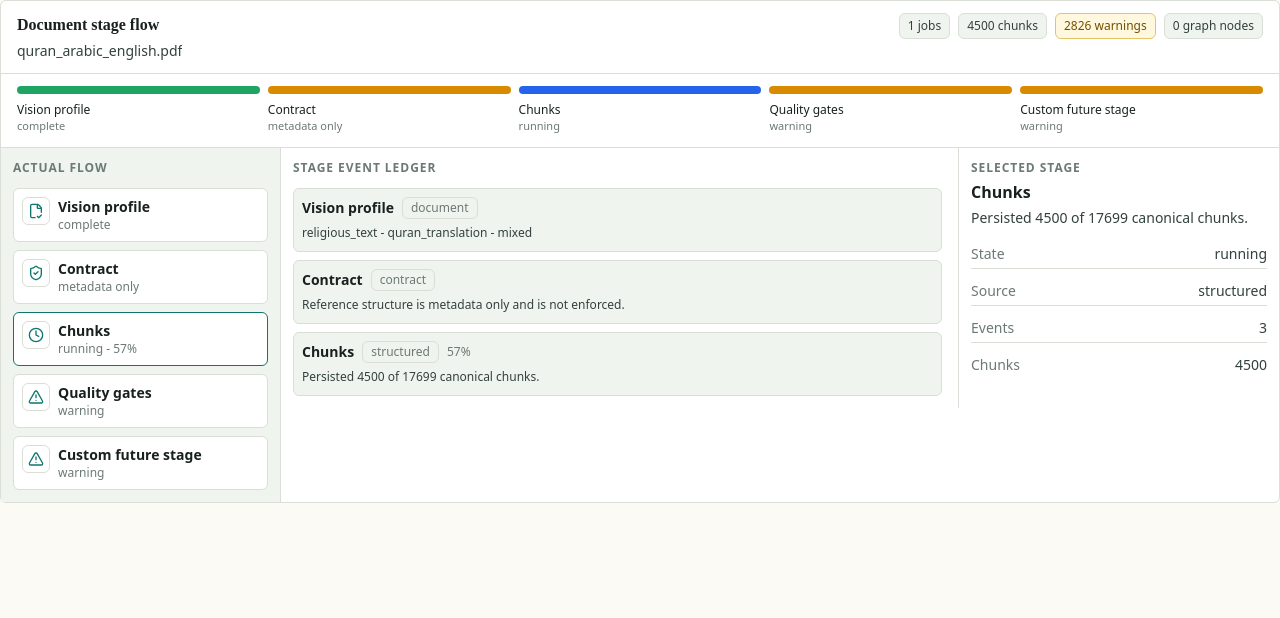
DocumentPipelineStageFlow › shows contract proof-boundary details when the contract stage is selected
Click the button "Contract metadata only": (140, 276) [13,250,268,304]
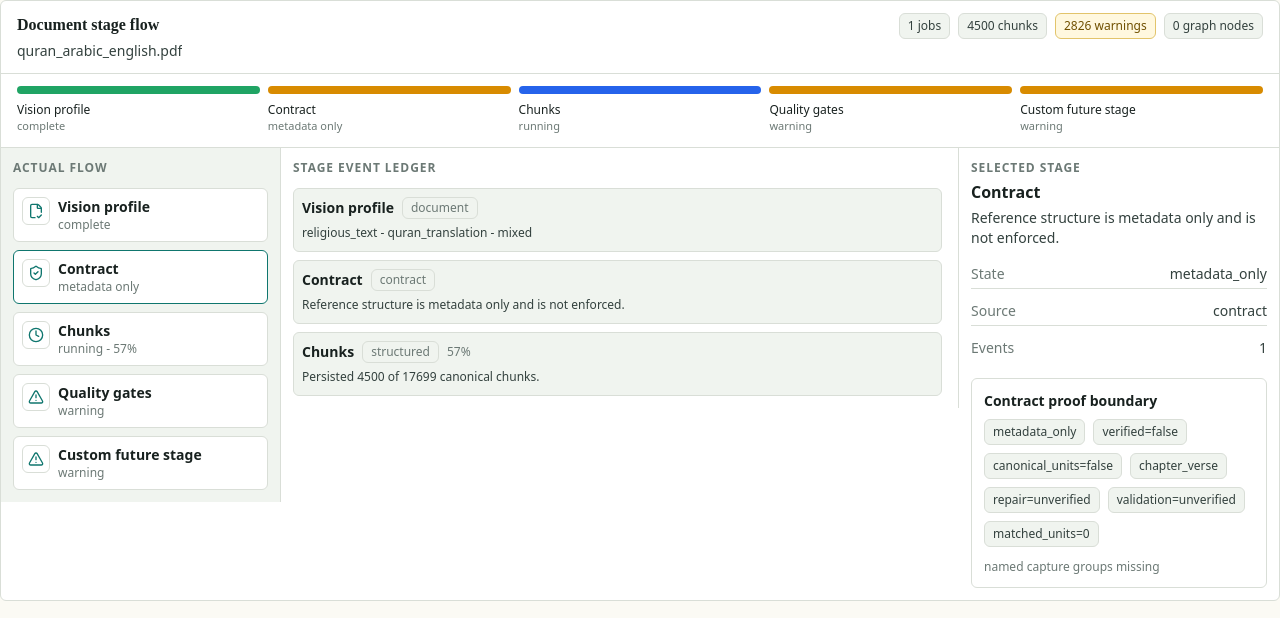
Check: the text "metadata_only" in the row of "State" is shown, box [1170,264,1267,282]
Check: the text "verified=false" is shown, box [1094,418,1187,444]
Check: the text "canonical_units=false" is shown, box [984,452,1122,478]
